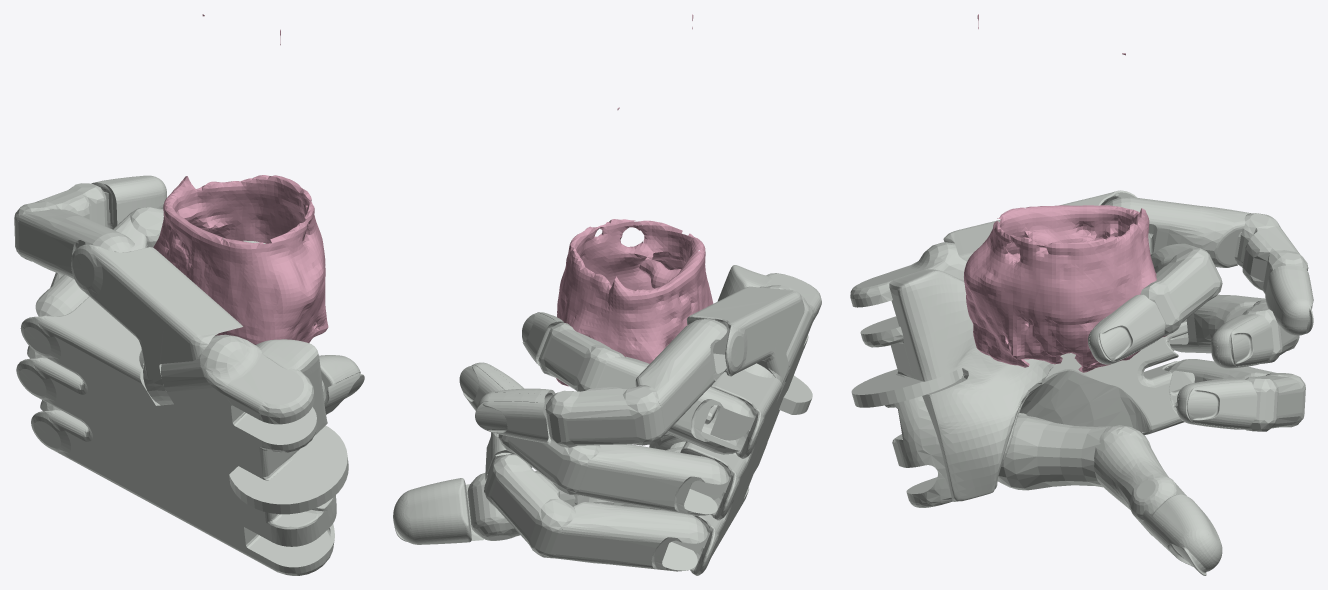
The picture shows the model from 3 angles, left to right: view 1: azimuth 30°, elevation 25°; view 2: azimuth 150°, elevation 25°; view 3: azimuth 270°, elevation 25°; orthographic projection. The views are drawn at different scales.
Visible parts, largest first — view 1: hand, world; view 2: hand, world; view 3: hand, world.
Part boxes in pixels (<box>): hand: <box>14,175,364,575</box>; world: <box>153,14,328,344</box>; hand: <box>393,265,821,575</box>; world: <box>556,14,713,386</box>; hand: <box>850,190,1313,575</box>; world: <box>964,14,1167,372</box>.
Size of the model in its own units: 0.1339 by 0.1856 by 0.1575.
